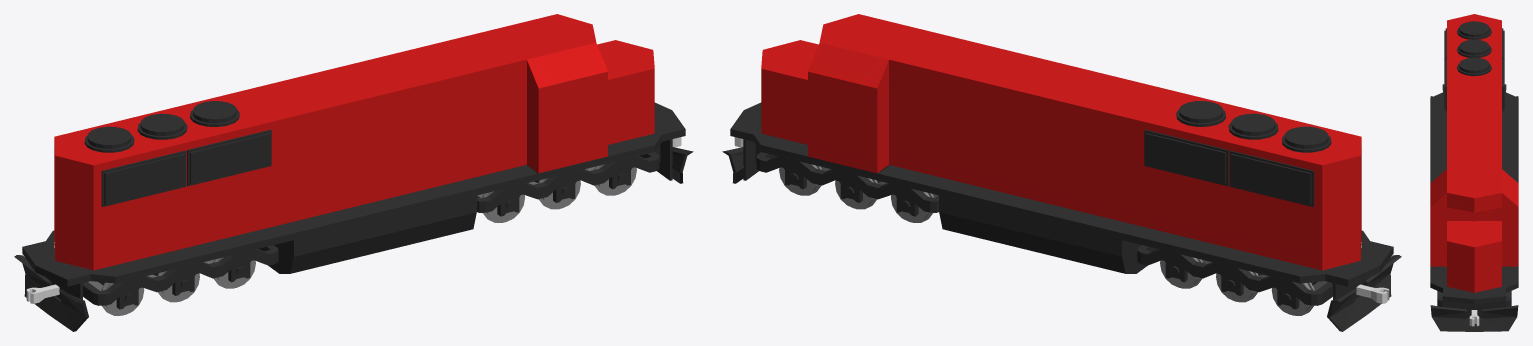
File: Locomotive_USA_Couplers_New.glb
3 renders of one model, left to right at view 1: azimuth 30°, elevation 25°; view 2: azimuth 150°, elevation 25°; view 3: azimuth 270°, elevation 25°, orthographic. The views are drawn at different scales.
Visible parts, largest first — view 1: Locomotive_USA_Hull, Locomotive_USA_Bogie_2, Locomotive_USA_Bogie_1; view 2: Locomotive_USA_Hull, Locomotive_USA_Bogie_2, Locomotive_USA_Bogie_1; view 3: Locomotive_USA_Hull, Locomotive_USA_Bogie_1, Locomotive_USA_Coupler_Front.
Part boxes in pixels (<box>): Locomotive_USA_Hull: <box>14,14,693,331</box>; Locomotive_USA_Bogie_2: <box>83,245,278,315</box>; Locomotive_USA_Bogie_1: <box>477,152,659,222</box>; Locomotive_USA_Hull: <box>722,14,1401,331</box>; Locomotive_USA_Bogie_2: <box>1137,245,1332,315</box>; Locomotive_USA_Bogie_1: <box>756,152,938,222</box>; Locomotive_USA_Hull: <box>1430,14,1518,331</box>; Locomotive_USA_Bogie_1: <box>1437,291,1511,306</box>; Locomotive_USA_Coupler_Front: <box>1469,310,1479,326</box>.
Size of the model in its own units: 1.68 by 0.416 by 0.2807.
Materials: 3 (3 with a texture image).
